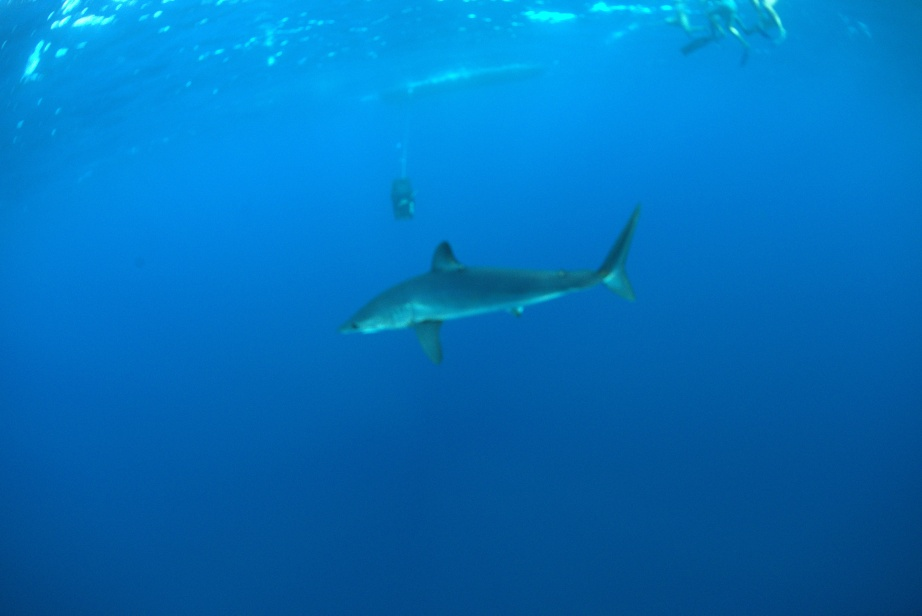Mako: (326, 198, 672, 367)
